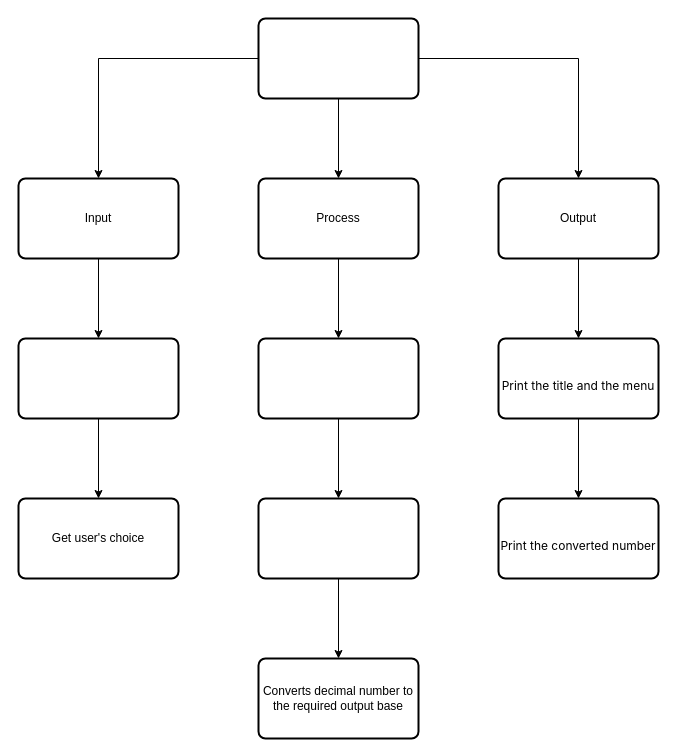
Image size: 676x756. Some labels were removed from this diagram. Here are the shapes that lost their labels. From the top down, the centre of each, then its label:
At (338,58): "Convert decimals, binary, and hexadecimals".
At (98,378): "Get user's to be converted number".
At (338,378): "Validates user's choice".
At (338,538): "Converts user's number to decimals".
